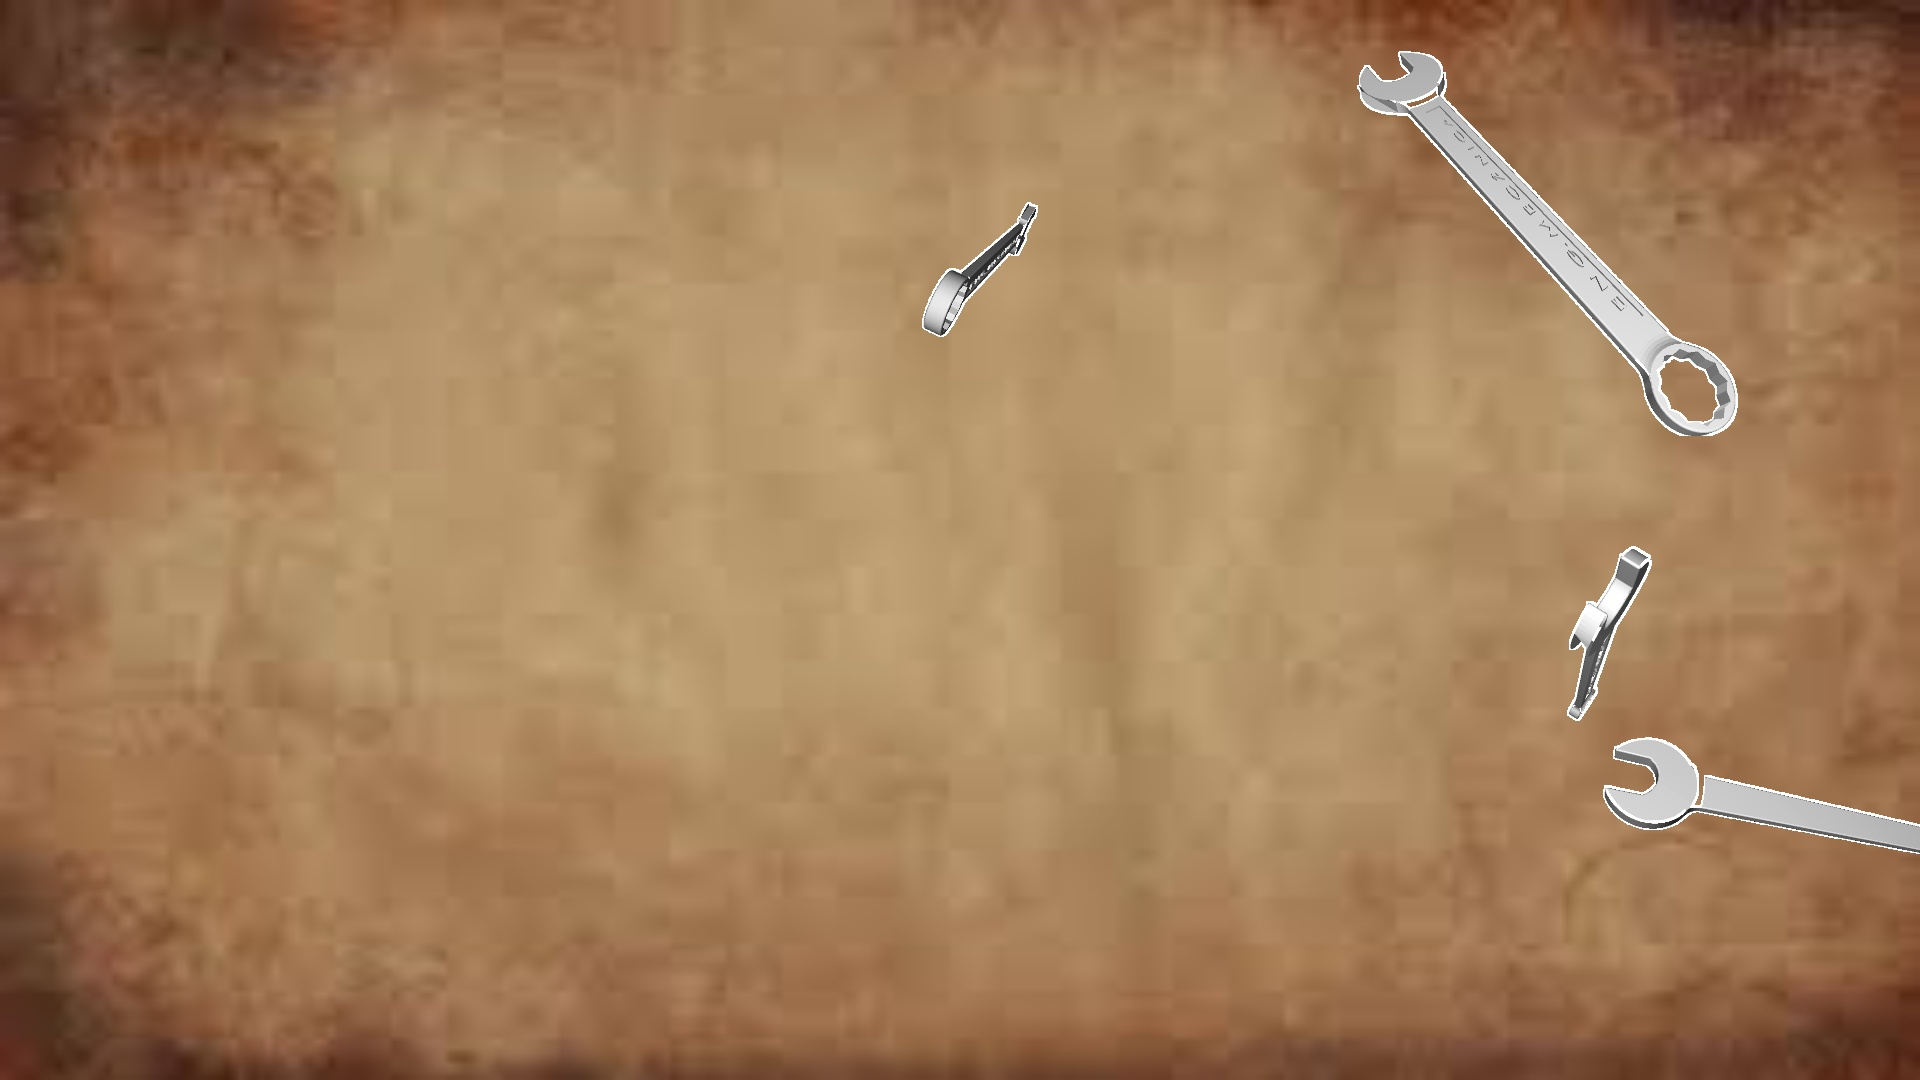Mixed Key: (1357, 51, 1737, 435), (1604, 737, 1919, 853), (922, 202, 1036, 336), (1567, 546, 1651, 720)
